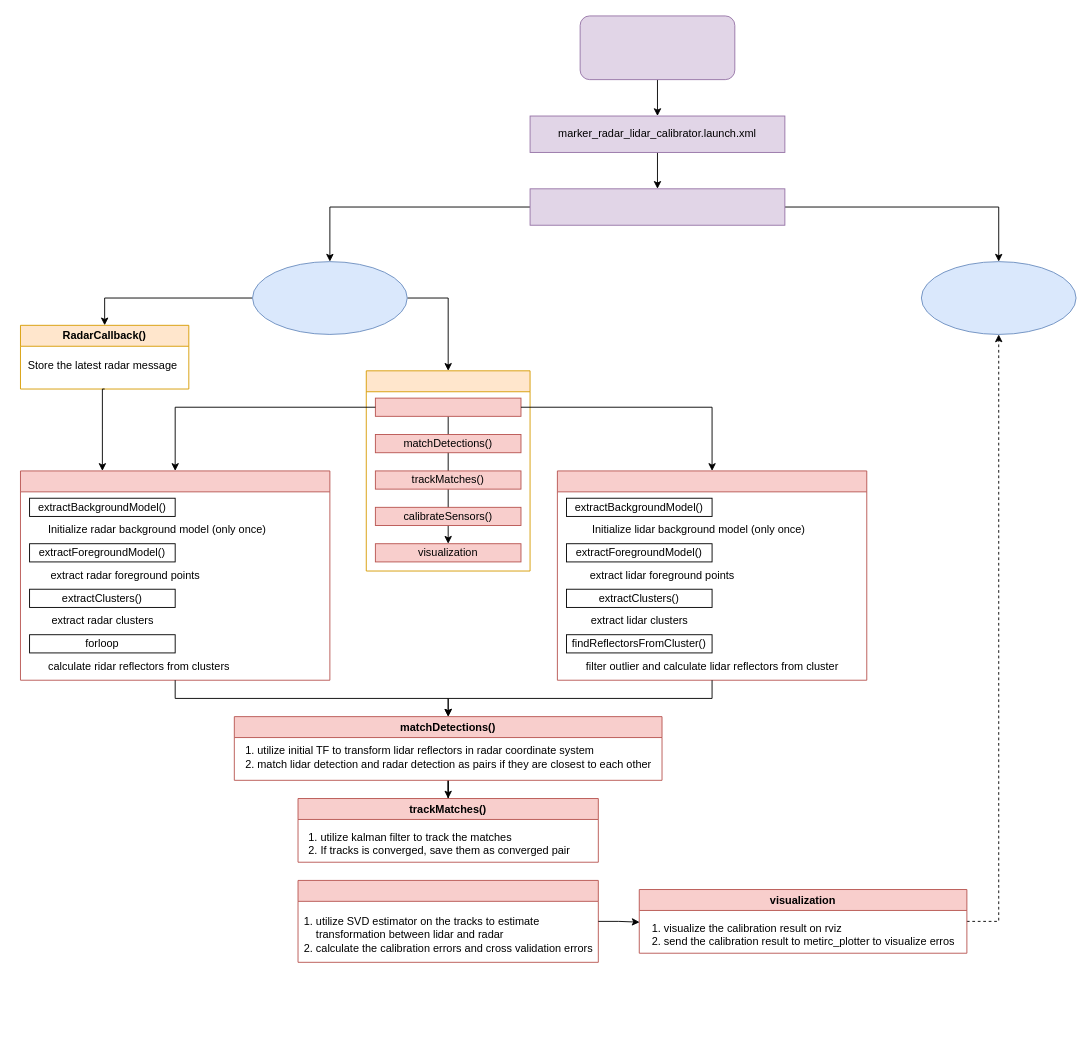
This 1092x1049 diagram has some shape labels left out. Here are the shapes that lost their labels. From the top down, the box of each, then its label:
(579, 15, 735, 80): sensor_calibration_manager
(529, 188, 785, 225): marker_radar_lidar_calibrator/calibration.launch.xml
(252, 261, 407, 334): node marker_radar_lidar_calibrator
(920, 261, 1076, 334): node metric_plotter
(374, 397, 521, 416): extractReflectors()
(365, 370, 530, 571): LidarCallback()
(20, 470, 330, 680): extractReflectors(), Radar
(556, 470, 867, 680): extractReflectors(), Lidar
(297, 880, 598, 962): calibrationSensors()
